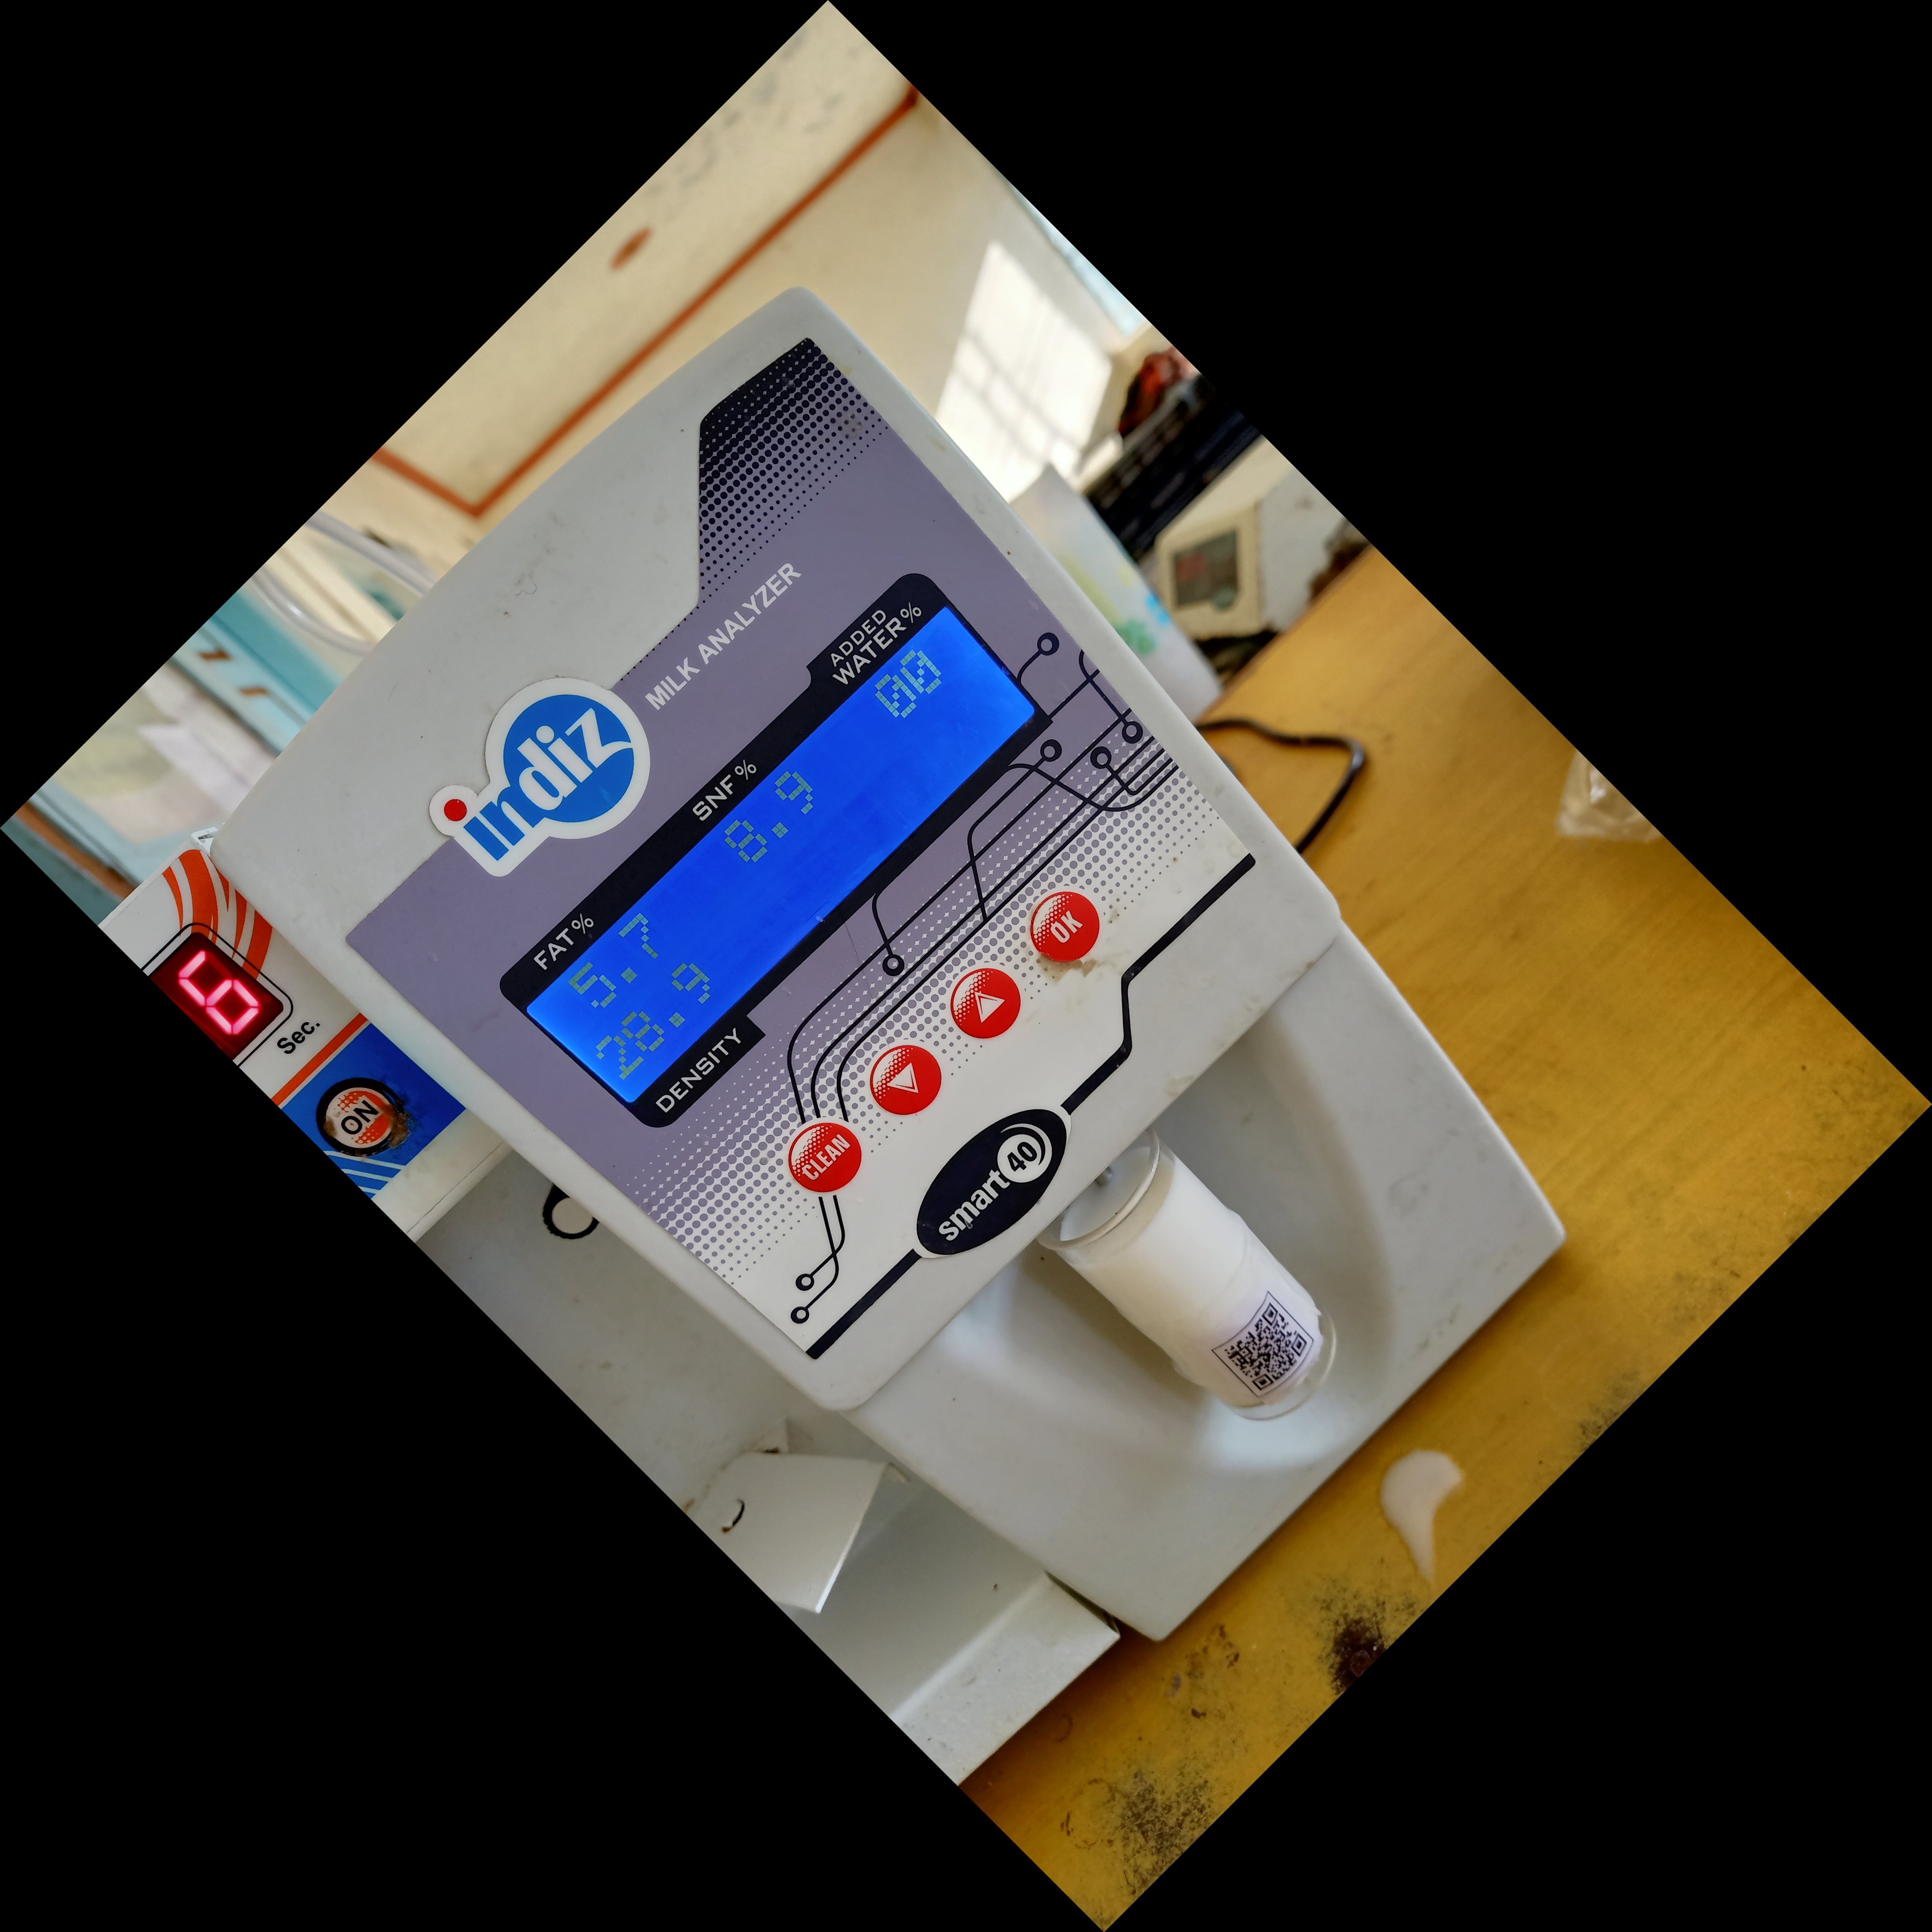lcd: (483, 531, 1088, 1146)
qr: (1207, 1276, 1330, 1428)
